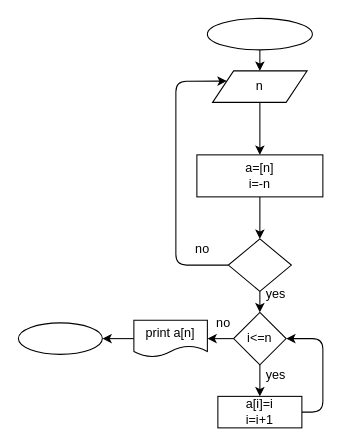
Some shapes in this 350 by 446 pixel diagram are drawn without their labels. The centre of each missing label's shape, as x and y in pixels:
0<n<10: (259,264)
finish: (59,338)
start: (259,33)
